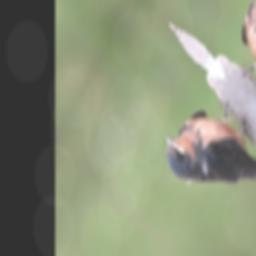Swallow: (154, 73, 256, 237)
